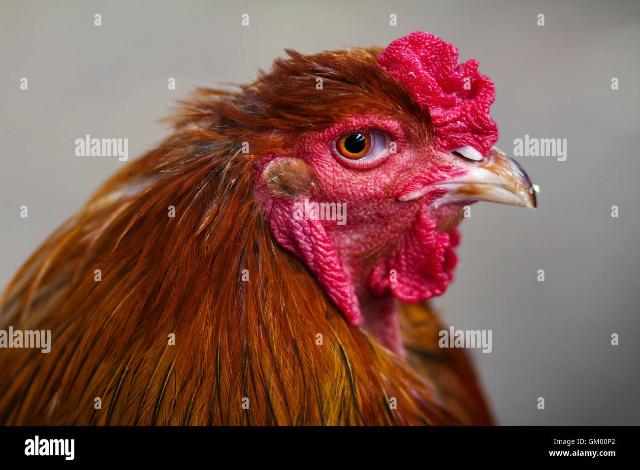Chicken: (0, 32, 537, 428)
